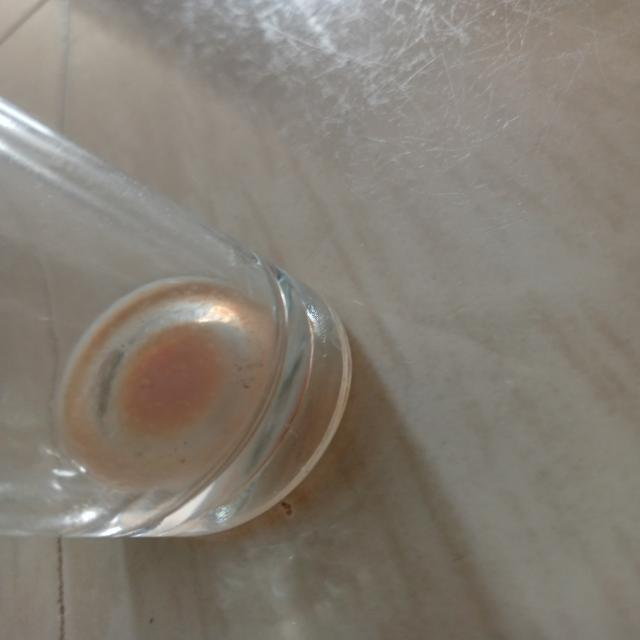glass-VX4N: (0, 99, 358, 545)
